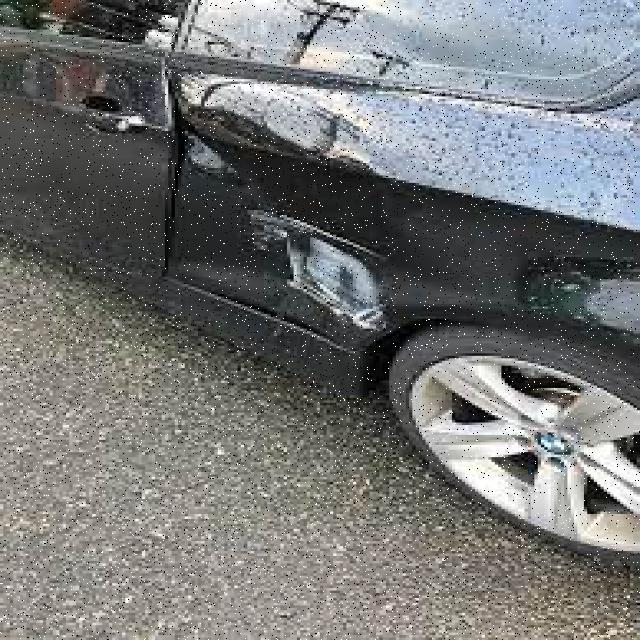quaterpanel-dent: (172, 64, 637, 388)
